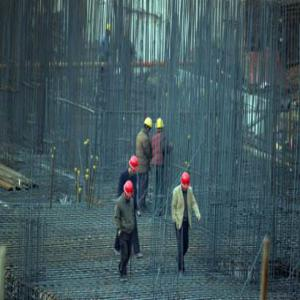red: (129, 157, 139, 176), (125, 180, 134, 201), (182, 173, 191, 191)
yellow: (145, 117, 154, 134), (156, 118, 164, 132)
